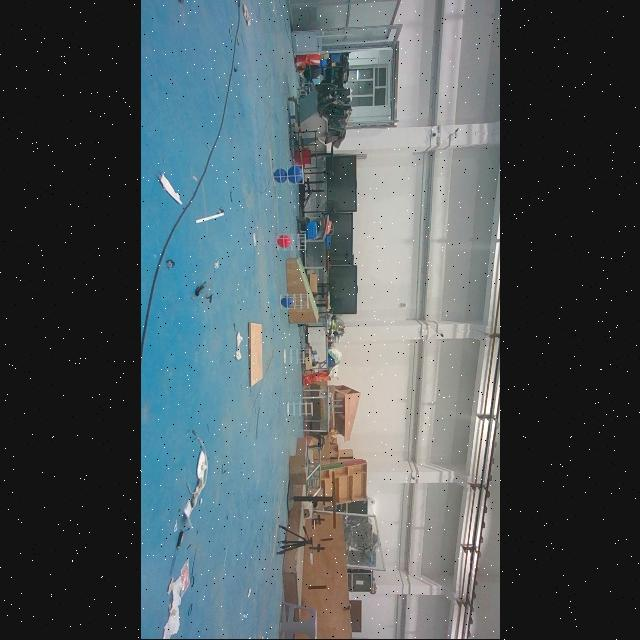B: (288, 166, 302, 184), (274, 169, 286, 183), (281, 296, 293, 308)
R: (278, 235, 290, 249)
S: (270, 161, 304, 187), (274, 230, 308, 254), (282, 344, 314, 368), (278, 292, 310, 312), (286, 399, 314, 419)
